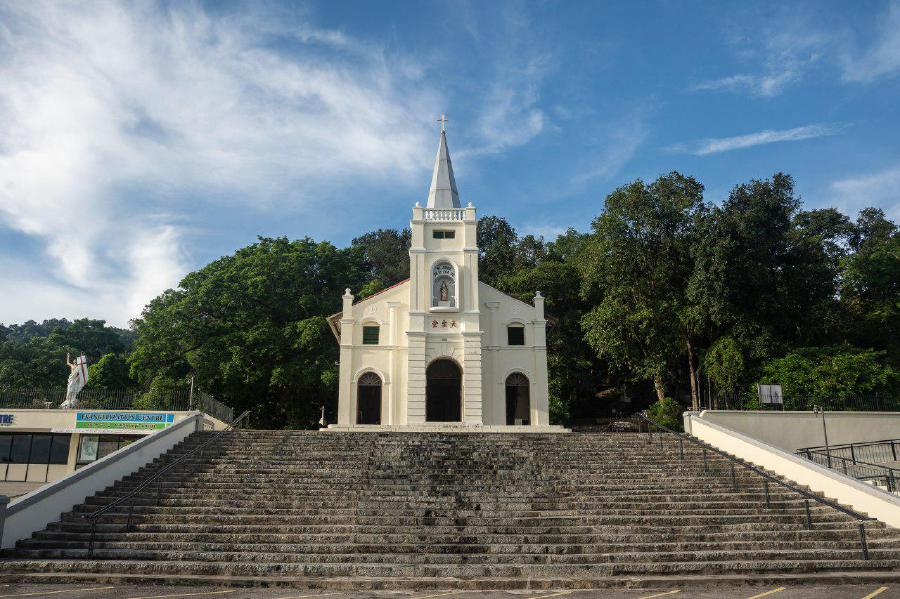Church: (326, 102, 554, 417)
